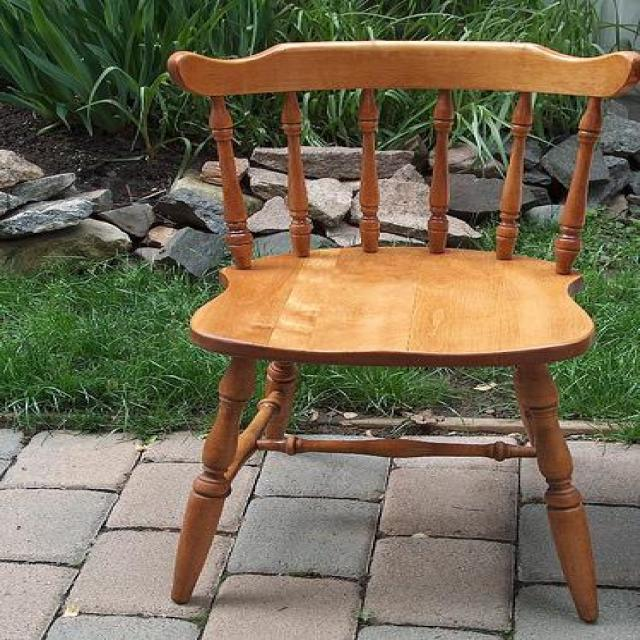chair: (164, 39, 638, 624)
